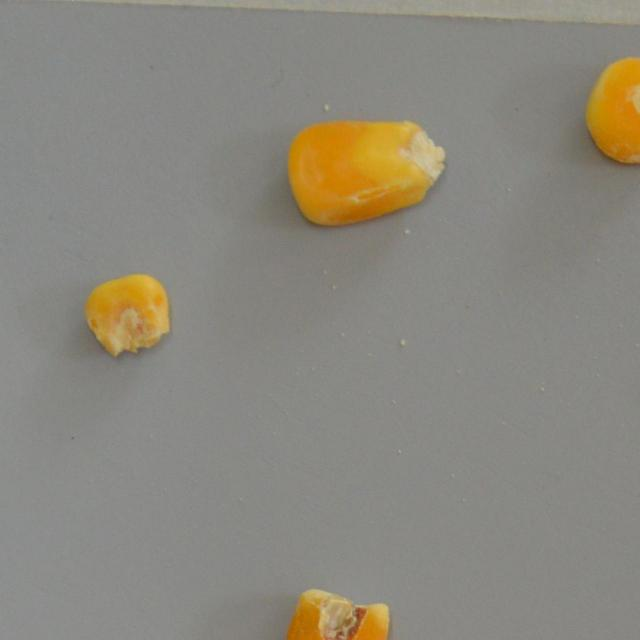dañado: (80, 268, 177, 360), (276, 576, 400, 640)
entero: (284, 116, 453, 232)
pelicula: (582, 54, 640, 167)
